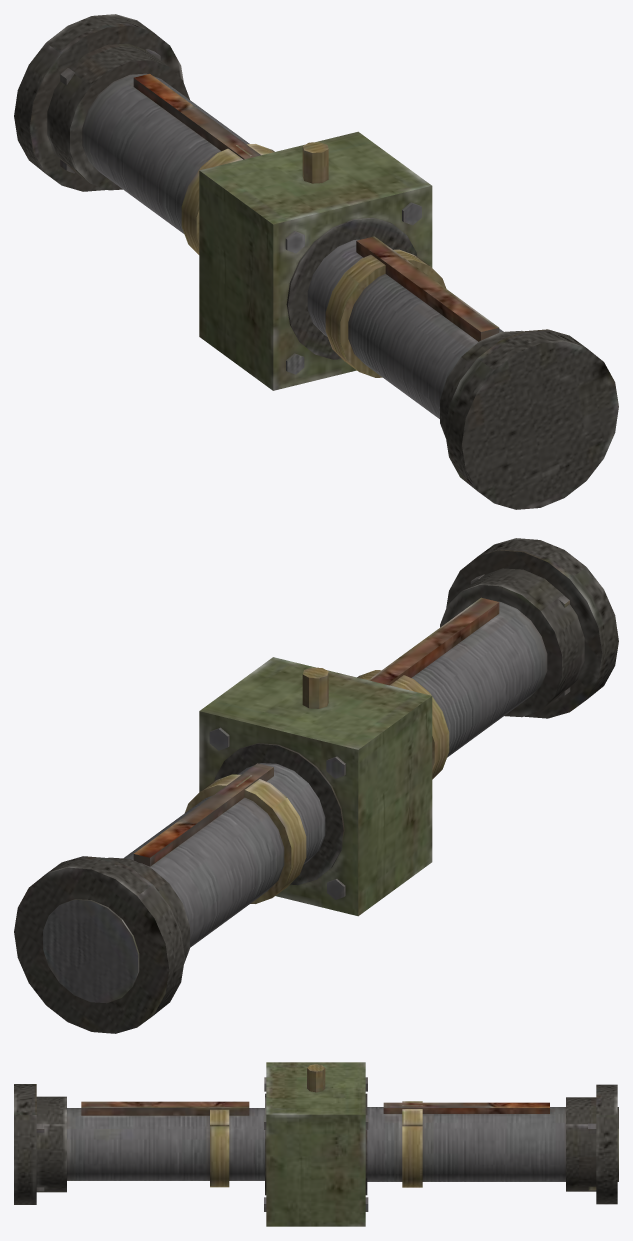
File: feShaft.glb
3 views of the same model, one above another, from view 1: azimuth 30°, elevation 25°; view 2: azimuth 150°, elevation 25°; view 3: azimuth 270°, elevation 25° (orthographic). The views are drawn at different scales.
Parts seen in each view (by area): view 1: FeSpin_Shaft, feShaft_Bearing; view 2: FeSpin_Shaft, feShaft_Bearing; view 3: FeSpin_Shaft, feShaft_Bearing.
Boxes of the visible parts, bbox=[...] form: FeSpin_Shaft: bbox=[14, 14, 618, 509]; feShaft_Bearing: bbox=[199, 131, 432, 390]; FeSpin_Shaft: bbox=[14, 538, 618, 1033]; feShaft_Bearing: bbox=[199, 657, 432, 916]; FeSpin_Shaft: bbox=[14, 1084, 618, 1204]; feShaft_Bearing: bbox=[264, 1062, 368, 1226].
Size of the model in its own units: 0.2048 by 0.2424 by 1.
1 material, 1 textured.
